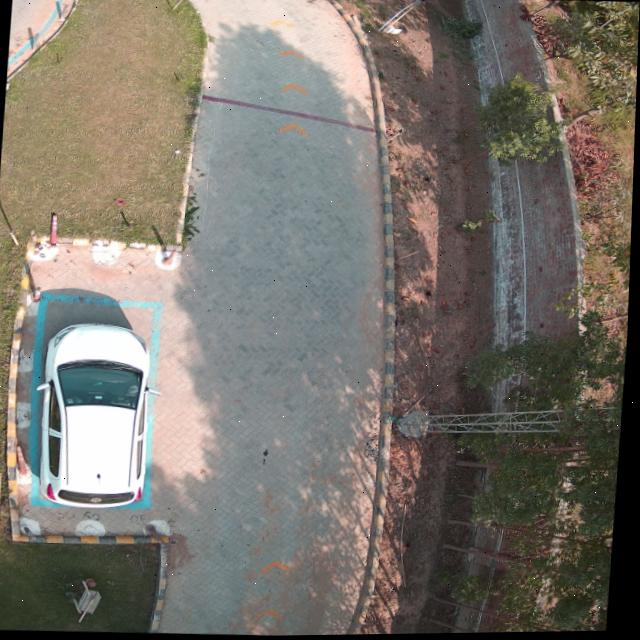car: (39, 323, 152, 508)
